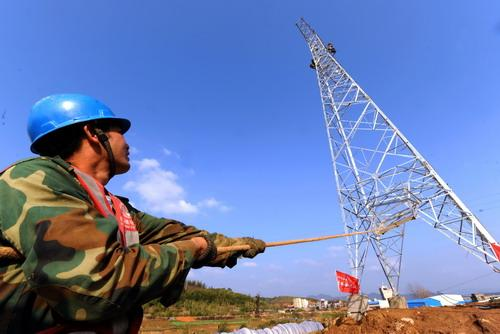helmet: (27, 92, 133, 155)
